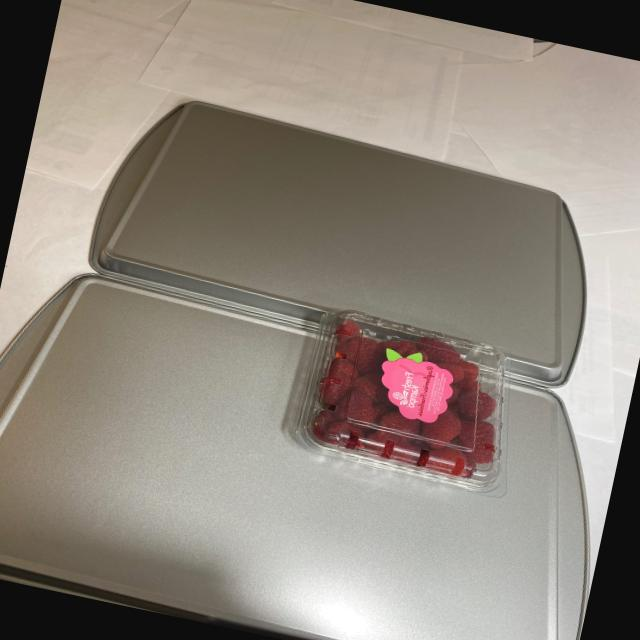raspberries: (300, 316, 514, 497)
